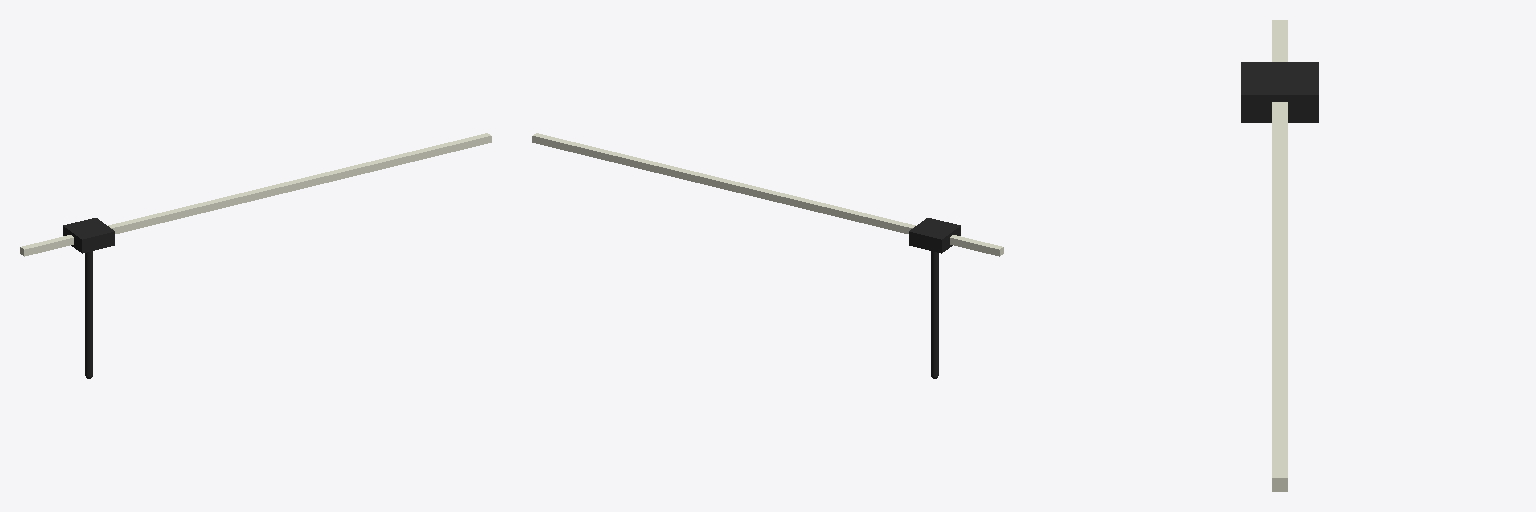
The robot description file, URDF, robot "contactcart":
<?xml version="1.0"?>
<robot name = "contactcart">
    <material name="grey">
        <color rgba="0.2 0.2 0.2 1.0"/>
    </material>
    <material name="silver">
        <color rgba="0.913725490196 0.913725490196 0.847058823529 1.0"/>
    </material>
    <!-- links section -->>
    <link name="track">
  	    <visual>
    	    <origin xyz="2.5 0 1.5"/>
      	    <geometry>
                <box size="7 0.1 0.1"/>
      	    </geometry>
            <material name = "silver"/>
  	    </visual>
		<inertial>
			<origin xyz = "2.5 0 1.5" />
			<mass value = "10" />
			<inertia ixx = "0.0167" iyy = "40.8" izz = "40.8" ixy = "0" ixz = "0" iyz = "0" />
		</inertial>
    </link>
	<link name = "cart">
		<inertial>
			<origin xyz = "0 0 1.5" />
			<mass value = "1" />
			<inertia ixx = "0.0241" iyy = "0.0241" izz = "0.0417" ixy = "0" ixz = "0" iyz = "0" />
		</inertial>
		<visual>
			<origin xyz = "0 0 0" />
			<geometry>
				<box size = "0.5 0.5 0.2" />
			</geometry>
			<material name = "grey"/>
		</visual>
	</link>
	<link name = "upper_pendulum">
		<inertial>
			<origin xyz = "0 0 -0.5" />
			<mass value = "1" />
			<inertia ixx = "0.083" iyy = "0.083" izz = "0.125" ixy = "0" ixz = "0" iyz = "0" />
		</inertial>
		<visual>
			<origin xyz = "0 0 -0.5" />
			<geometry>
				<cylinder radius = "0.05" length = "1"  />
			</geometry>
            <material name = "grey"/>
		</visual>
	</link>
	<link name = "lower_pendulum">
		<inertial>
			<origin xyz = "0 0 -0.5" />
			<mass value = "1" />
			<inertia ixx = "0.083" iyy = "0.083" izz = "0.125" ixy = "0" ixz = "0" iyz = "0" />
		</inertial>
		<visual>
			<origin xyz = "0 0 -0.5" />
			<geometry>
				<cylinder radius = "0.05" length = "1"  />
			</geometry>
            <material name = "grey"/>
		</visual>
	</link>
    <!--These links are for visualization-->
	<link name="knee_sphere">
		<visual>
        	<origin xyz="0 0 0"/>
          	<geometry>
              <sphere radius="0.05"/>
          	</geometry>
            <material name = "grey"/>
        </visual>
        <inertial>
            <origin xyz="0 0 0"/>
            <mass value = "0.001"/>
            <inertia ixx = "0.0001" iyy = "0.0001" izz = "0.0001" ixy = "0" ixz = "0" iyz = "0" />
        </inertial>
	</link>
	<link name="foot_sphere">
	    <visual>
        	<origin xyz="0 0 0"/>
          	<geometry>
              <sphere radius="0.05"/>
          	</geometry>
            <material name = "grey"/>
        </visual>
        <inertial>
            <origin xyz="0 0 0"/>
            <mass value = "0.001"/>
            <inertia ixx = "0.0001" iyy = "0.0001" izz = "0.0001" ixy = "0" ixz = "0" iyz = "0" />
        </inertial>
	</link>
	<!-- joints section -->>
	<joint name = "slider" type = "prismatic">
		<parent link="track"/>
      	<child link="cart"/>
      	<origin xyz="0 0 1.5"/>
      	<axis xyz = "1 0 0"/>
	</joint>
	<joint name = "hip" type = "revolute">
		<parent link = "cart" />
		<child link = "upper_pendulum" />
		<origin xyz = "0 0 0" />
		<axis xyz = "0 -1 0" />
	</joint>
	<joint name = "knee" type = "revolute">
		<parent link = "upper_pendulum" />
		<child link = "lower_pendulum" />
		<origin xyz = "0 0 -1" />
		<axis xyz = "0 -1 0" />
	</joint>
    <!--These joint are for visualization-->
	<joint name="kneecap" type="fixed">
      <parent link="upper_pendulum"/>
      <child link="knee_sphere"/>
      <origin xyz="0 0 -1"/>
      <axis xyz="1 0 0"/>
	</joint>
	<joint name="footcap" type="fixed">
      <parent link="lower_pendulum"/>
      <child link="foot_sphere"/>
      <origin xyz="0 0 -1"/>
      <axis xyz="1 0 0"/>
	</joint>
    <!-- actuator section -->
    <transmission name = "joint1_transmission">
        <type>transmission_interface/SimpleTransmission</type>
        <joint name="hip"/>
        <actuator name="hip_actuator">
            <mechanicalReduction>1</mechanicalReduction>
        </actuator>
    </transmission>
    <transmission name="knee_actuation">
        <type>transmission_interface/SimpleTransmission</type>
        <joint name="knee"/>
        <actuator name="knee_actuator">
            <mechanicalReduction>1</mechanicalReduction>
        </actuator>
    </transmission>
</robot>

--- What the picture shows (computed from the rendered views, not written in the file) ---
3 views of the same robot in one strip: view 1: azimuth 30°, elevation 25°; view 2: azimuth 150°, elevation 25°; view 3: azimuth 270°, elevation 25° (orthographic).
Robot: contactcart — 6 links, 5 joints (2 revolute, 1 prismatic, 2 fixed); root link track; default pose: every joint at zero.
Visible links, largest first — view 1: track, cart, lower_pendulum; view 2: track, cart, lower_pendulum; view 3: track, cart.
Boxes of the visible links, x1=… form: track: x1=20, y1=133, x2=491, y2=256; cart: x1=63, y1=218, x2=114, y2=253; lower_pendulum: x1=85, y1=306, x2=92, y2=376; track: x1=532, y1=133, x2=1003, y2=256; cart: x1=909, y1=218, x2=960, y2=253; lower_pendulum: x1=931, y1=306, x2=938, y2=376; track: x1=1272, y1=20, x2=1287, y2=491; cart: x1=1241, y1=62, x2=1318, y2=122.
Bounding box of the posed robot: 7 × 0.5 × 2.15 m (x, y, z).
Geometry: primitives only (box / cylinder / sphere), no mesh files.